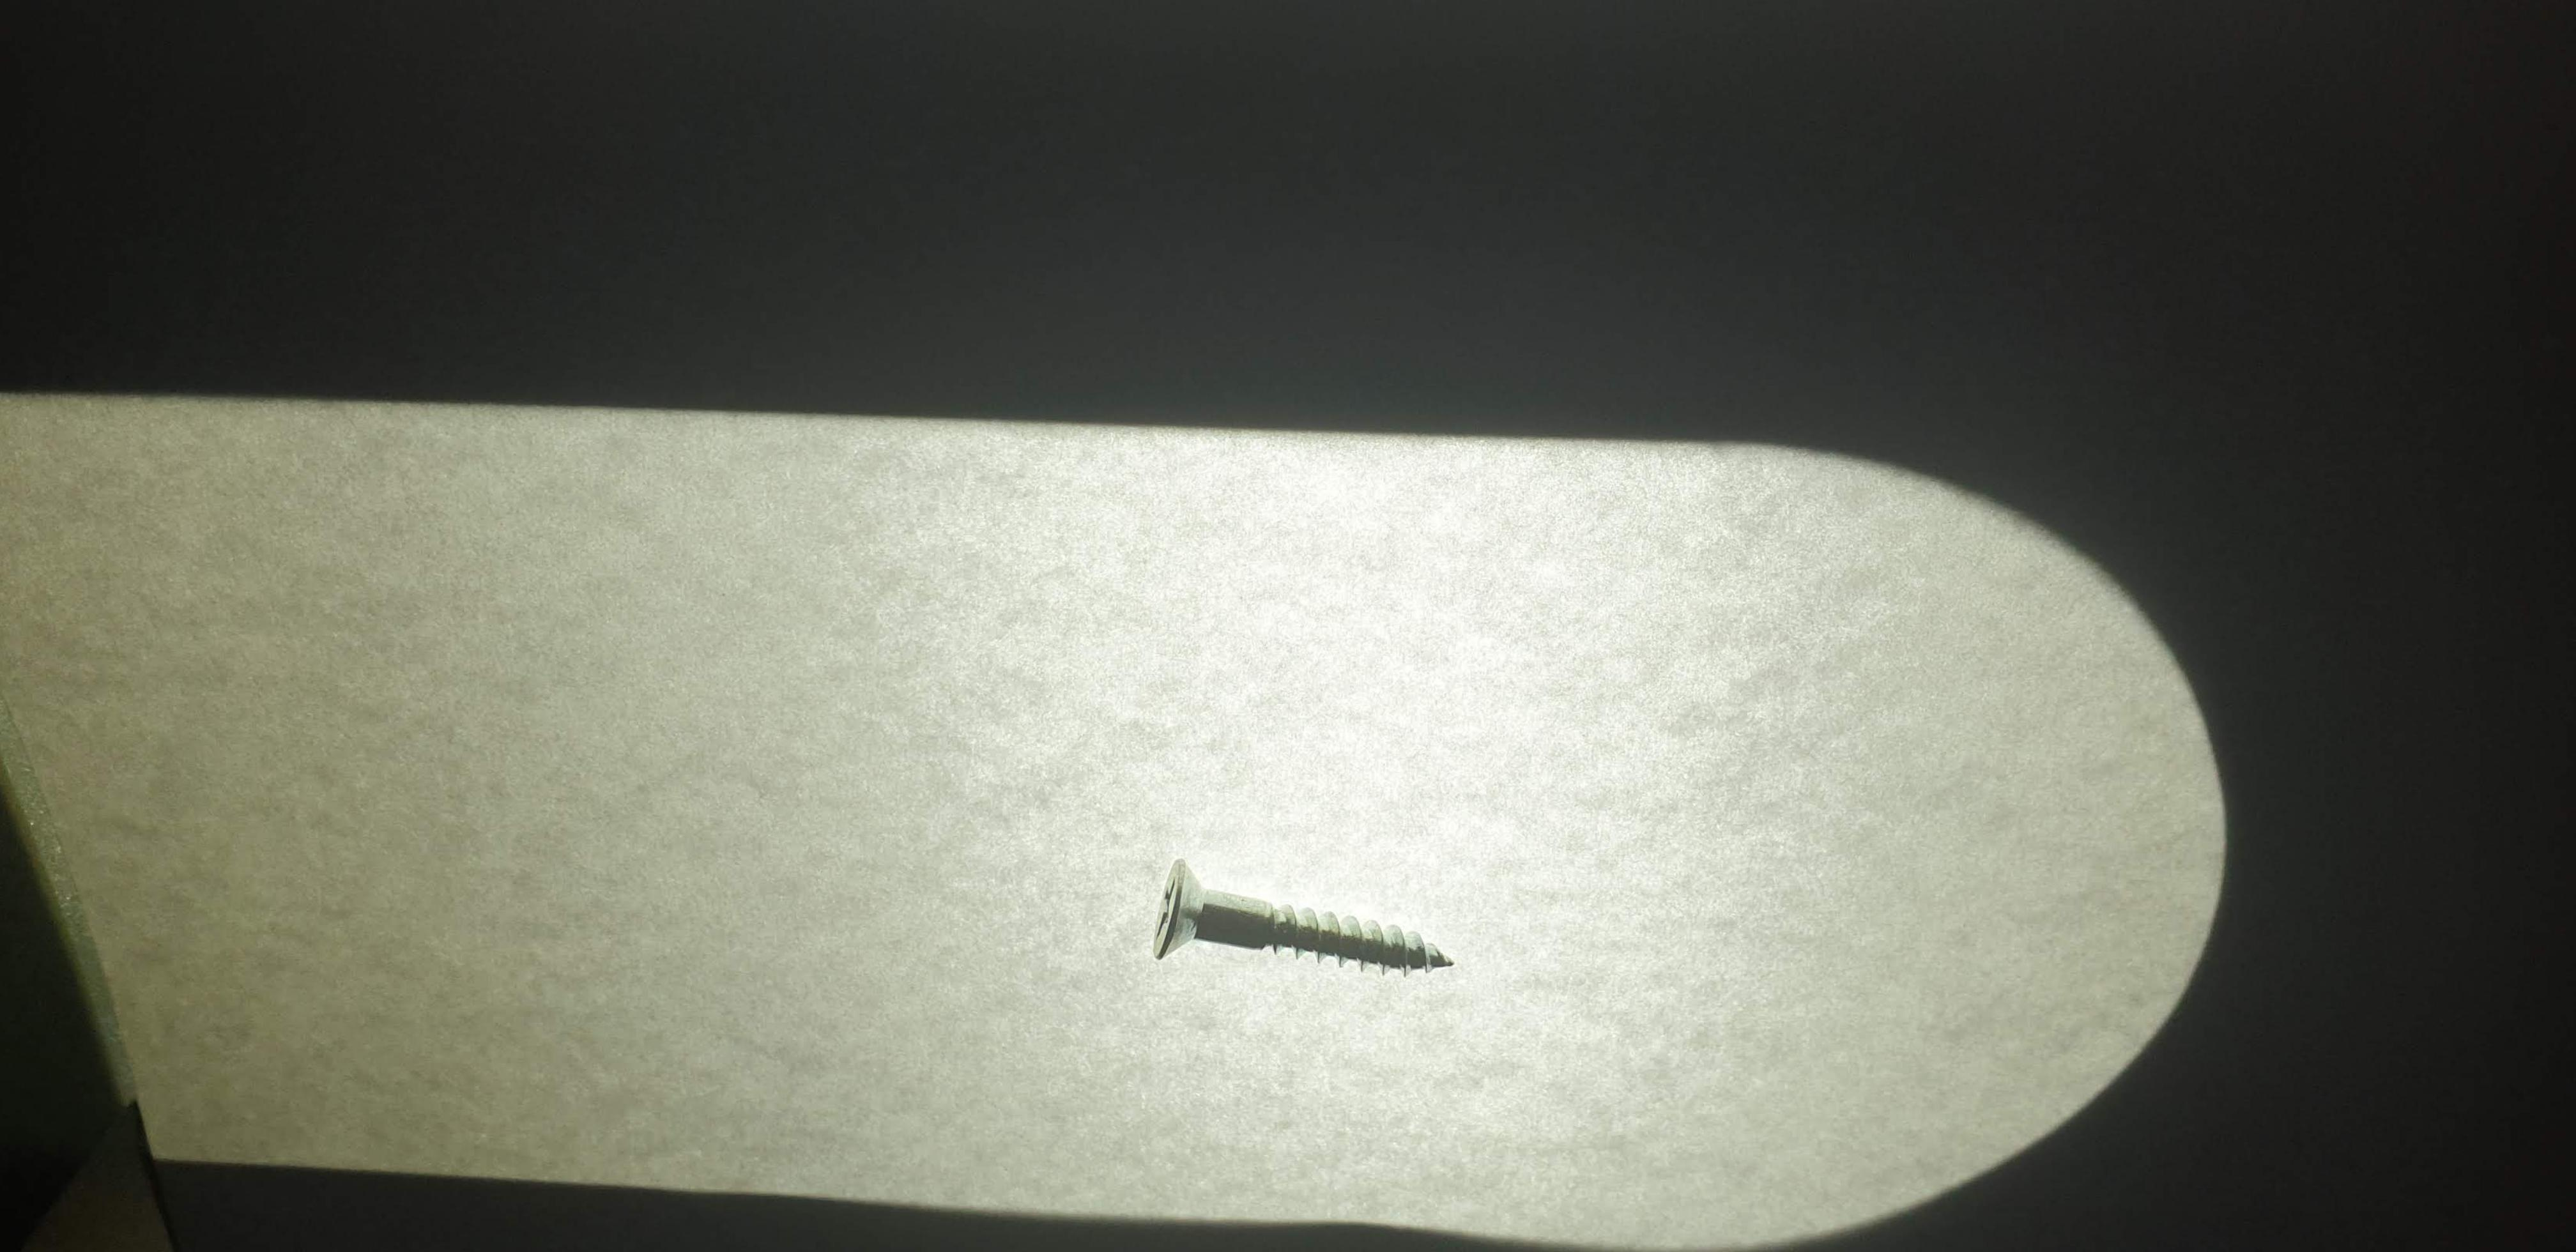S005: (1120, 817, 1546, 1035)
